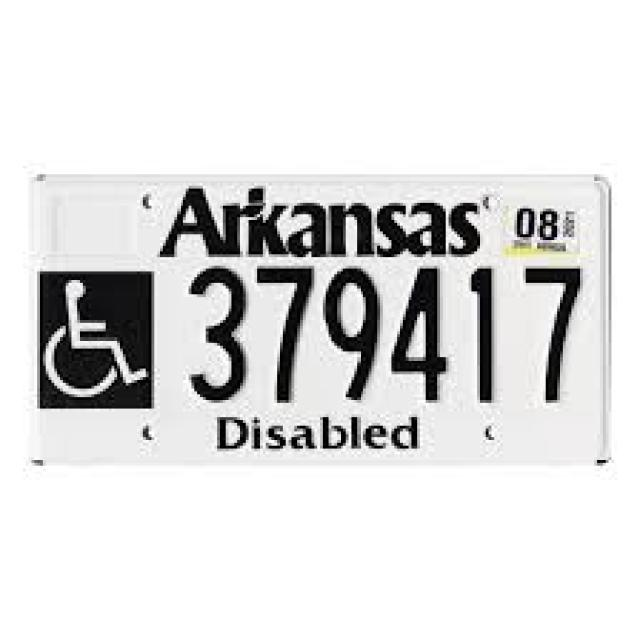car-handicap-placard: (44, 276, 150, 401)
